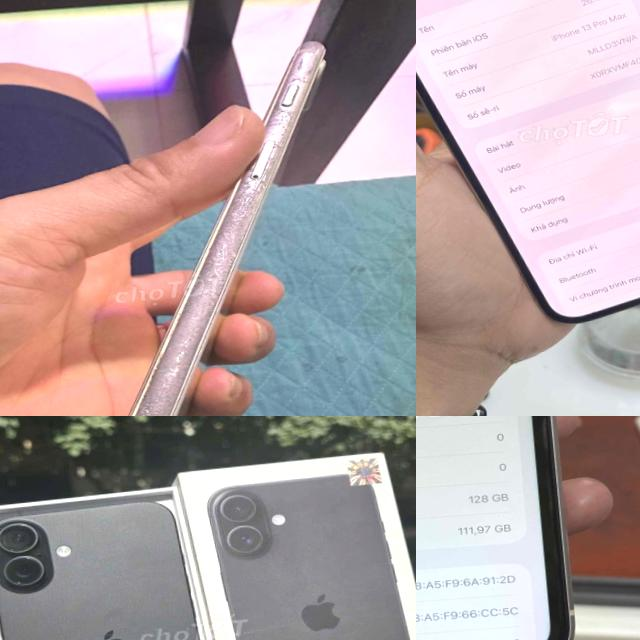scratch: (231, 108, 304, 178), (177, 242, 244, 310), (146, 318, 207, 387), (212, 180, 270, 239), (280, 39, 328, 83), (124, 388, 175, 416)
